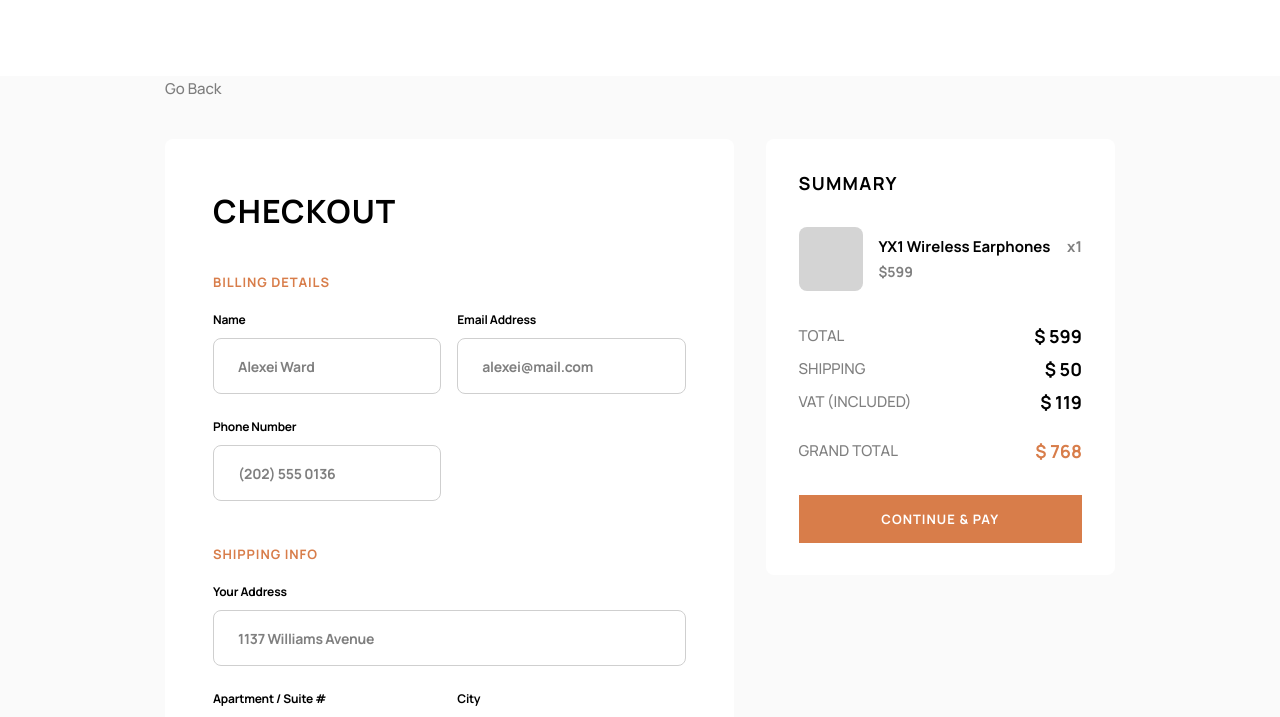
Test case: Payment method validation › shows error when no payment method is selected
This screenshot has width=1280, height=717.
Click the button "CONTINUE & PAY". click: (940, 519)
box: [798,495,1082,543]
(page scrolled)
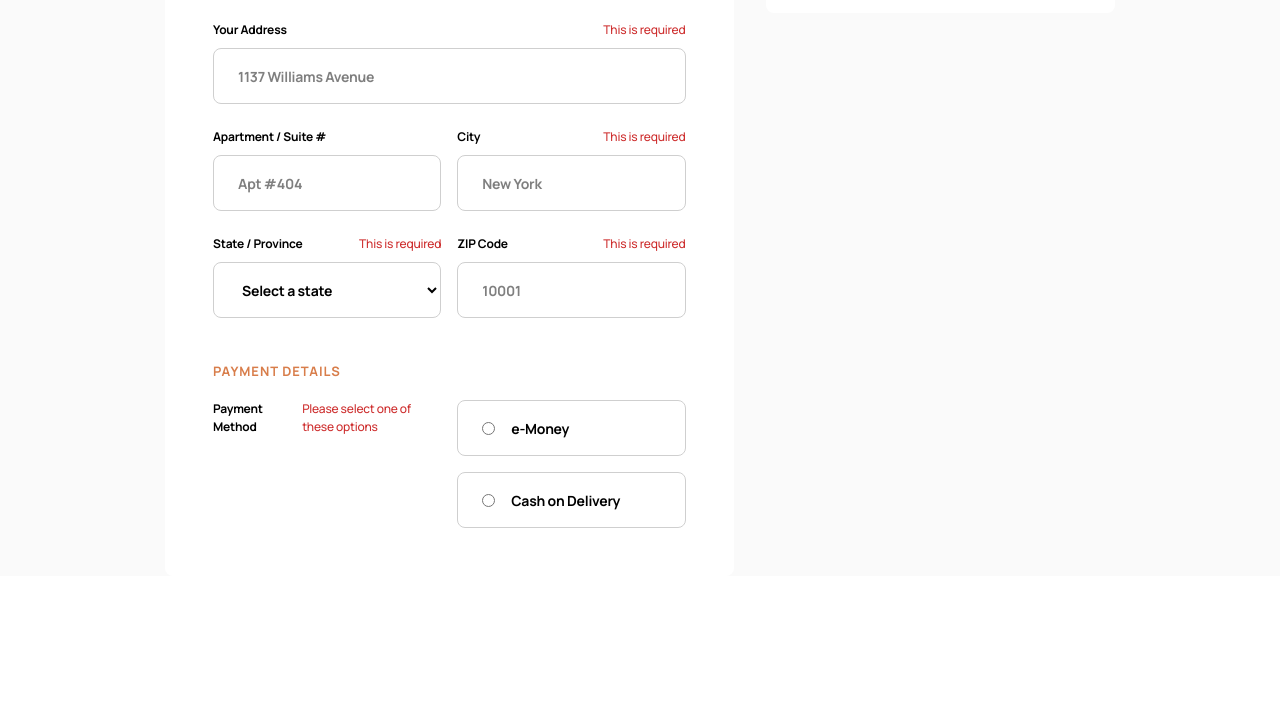
Expected: the text "Please select one of these options" is shown, [302,400,411,435]
